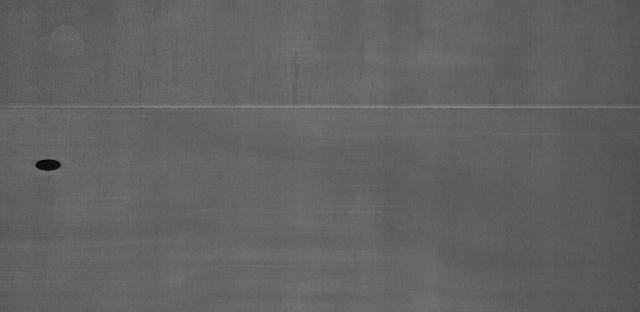punching_hole: (32, 154, 65, 175)
welding_line: (3, 98, 638, 122)
